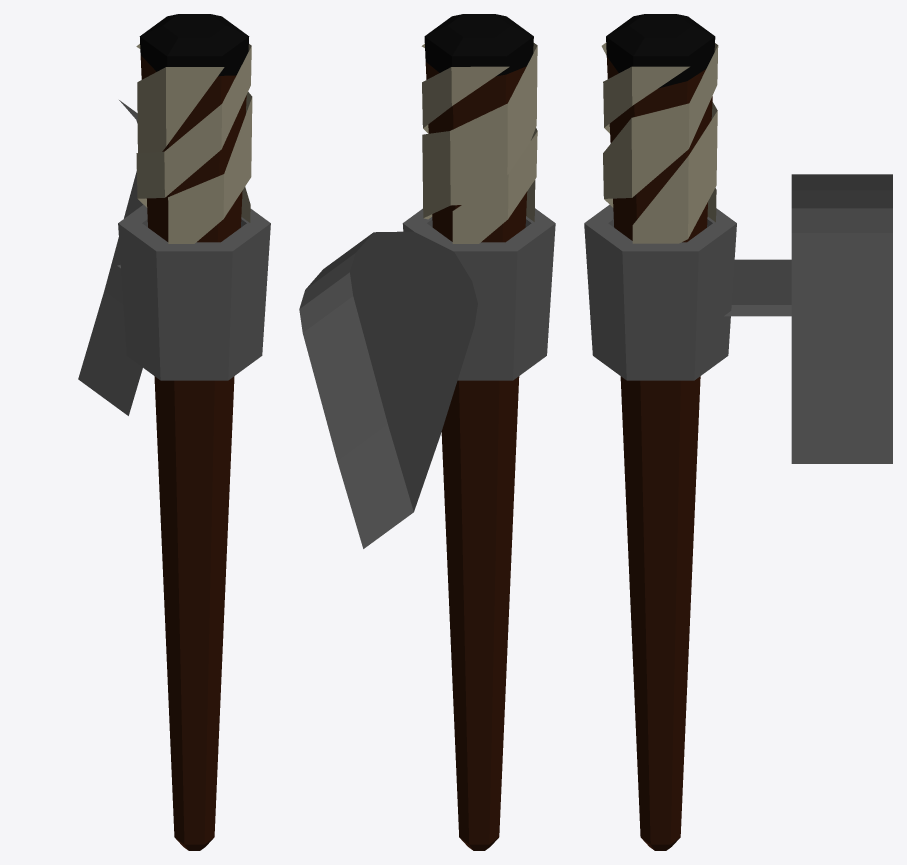
File: Tocha.gltf
3 renders of one model, left to right at view 1: azimuth 30°, elevation 25°; view 2: azimuth 150°, elevation 25°; view 3: azimuth 270°, elevation 25°, orthographic.
Visible parts, largest first — view 1: Tocha; view 2: Tocha; view 3: Tocha.
Boxes of the visible parts, x1,y1,x2,y2 form: Tocha: (78,14,270,850); Tocha: (299,14,555,850); Tocha: (584,14,892,850).
Bounding box in the file's own units: 0.1678 × 1.03 × 0.35.
